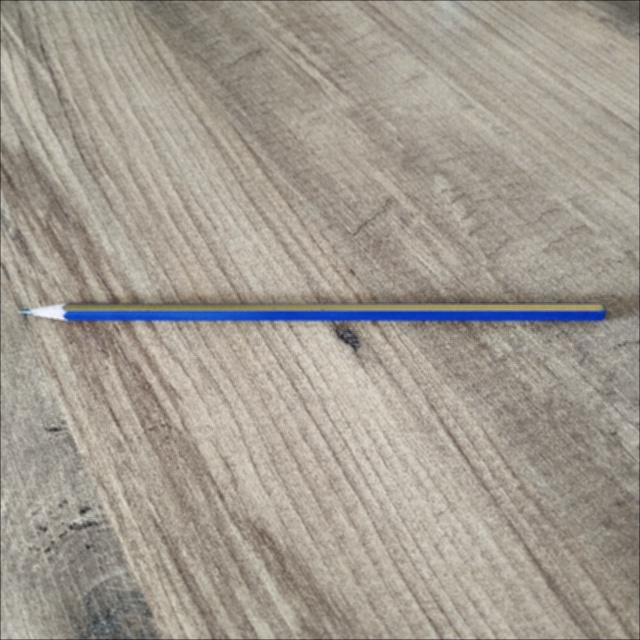pencil: (21, 304, 605, 321)
